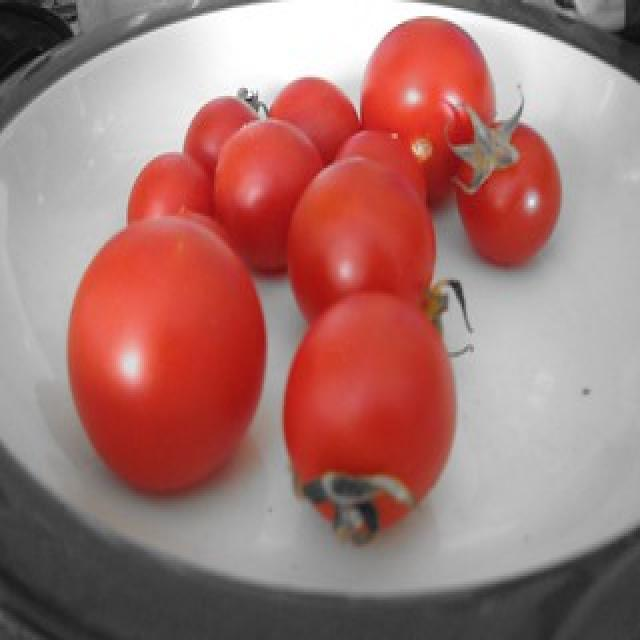kirmizi: (42, 40, 578, 546)
